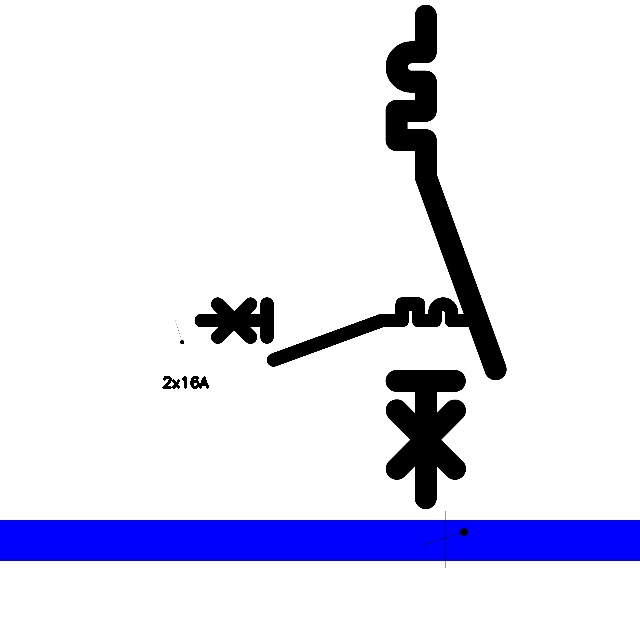interruptor_termomagnetico: (384, 3, 508, 510), (194, 297, 479, 366)
